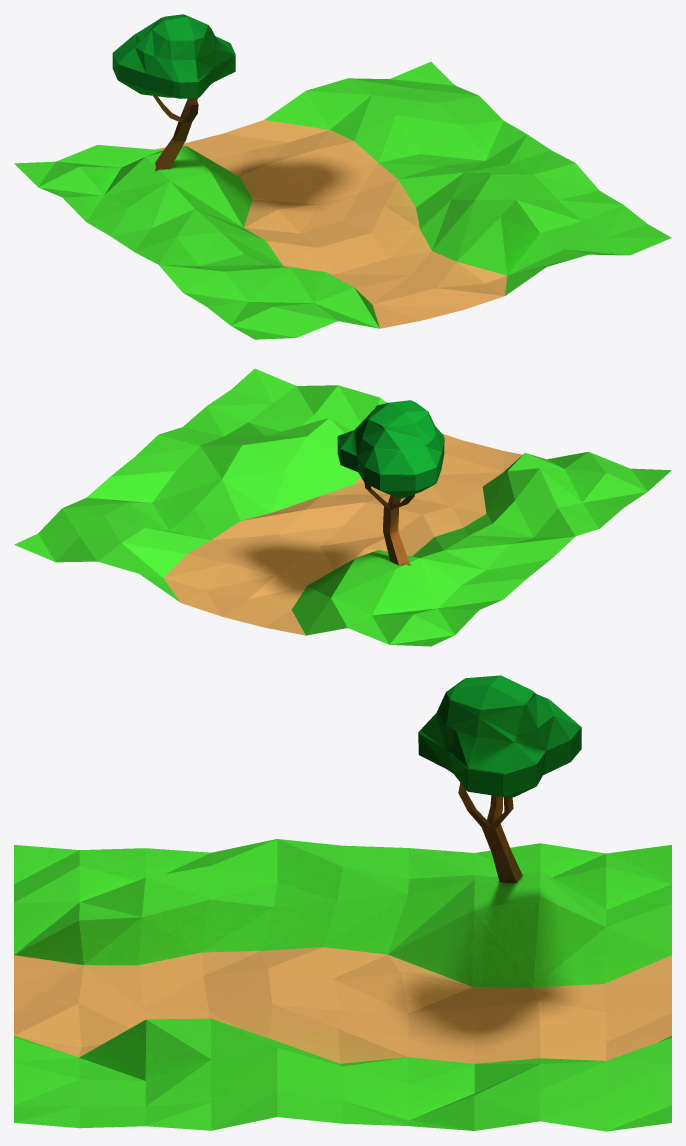
The model's file is metacave5.gltf.
The picture shows the model from 3 angles, top to bottom: view 1: azimuth 30°, elevation 25°; view 2: azimuth 150°, elevation 25°; view 3: azimuth 270°, elevation 25°; orthographic projection. The views are drawn at different scales.
Visible parts, largest first — view 1: Plain_Straight.001; view 2: Plain_Straight.001; view 3: Plain_Straight.001.
Boxes of the visible parts, x1=… form: Plain_Straight.001: x1=14, y1=14, x2=671, y2=339; Plain_Straight.001: x1=14, y1=368, x2=671, y2=646; Plain_Straight.001: x1=14, y1=675, x2=671, y2=1131.
Size of the model in its own units: 10 by 4.43 by 10.
Materials: 4 (4 with a texture image).
